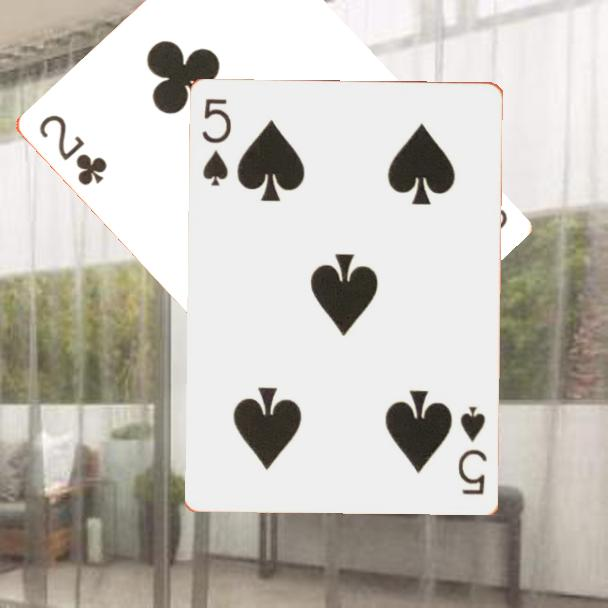c02: (34, 111, 110, 189)
s05: (198, 95, 235, 189), (455, 403, 491, 498)
